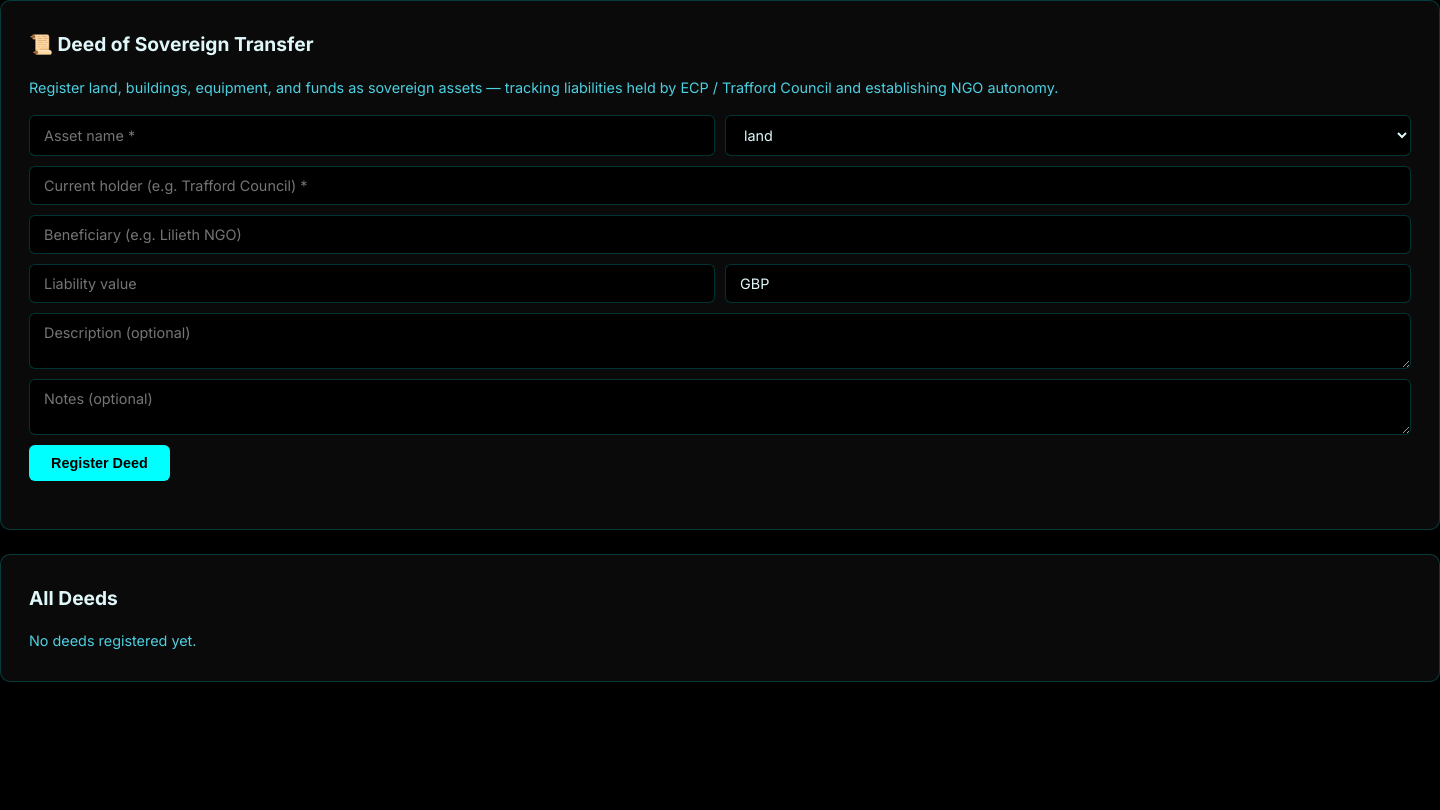
Test: Deeds › shows error message on API failure
This screenshot has width=1440, height=810.
Type "Test Plot" into the field with placeholder "Asset name *" at x=372, y=135, box [29,115,715,156]
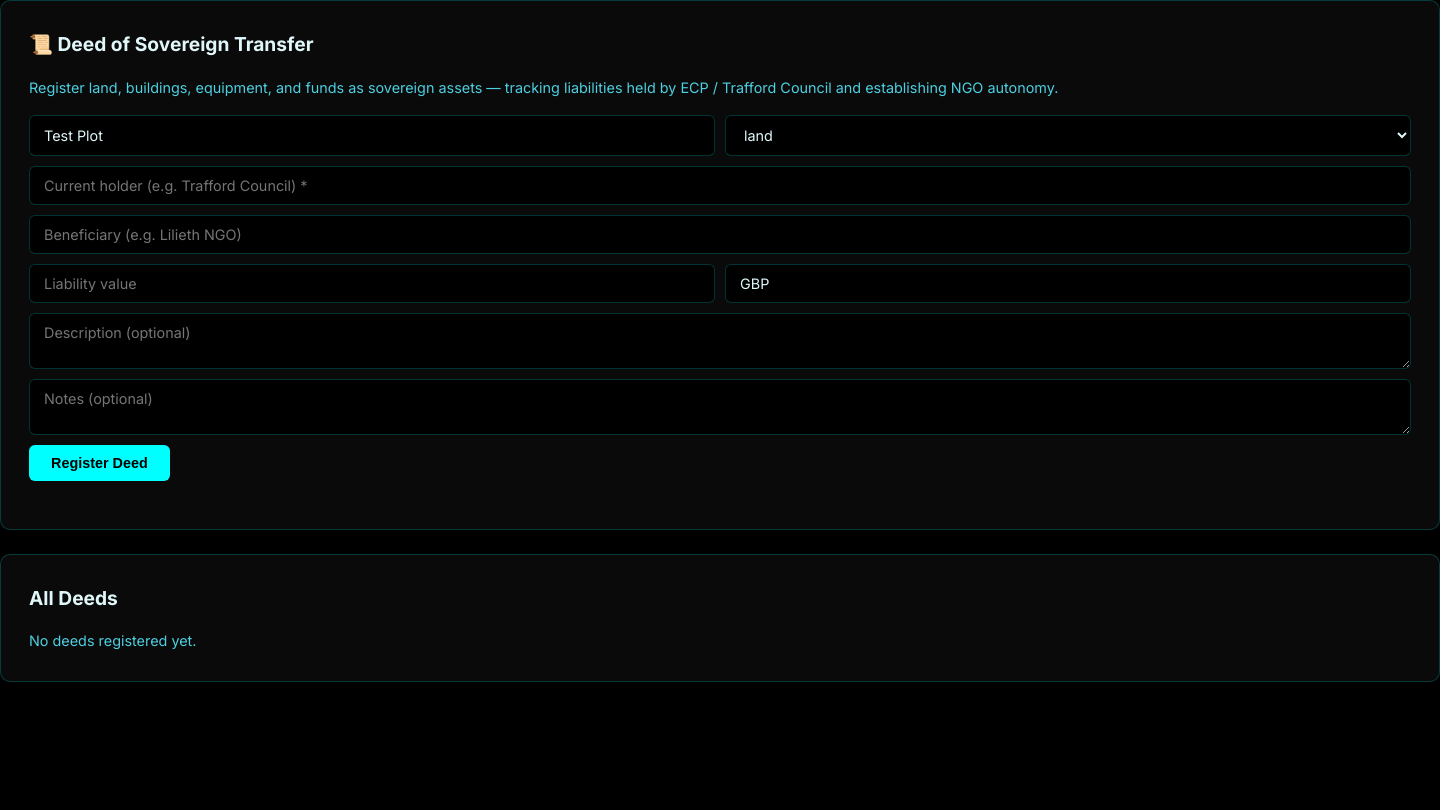
Type "Council" into the field with placeholder "Current holder (e.g. Trafford Council) *" at x=720, y=185, box [29,166,1411,205]
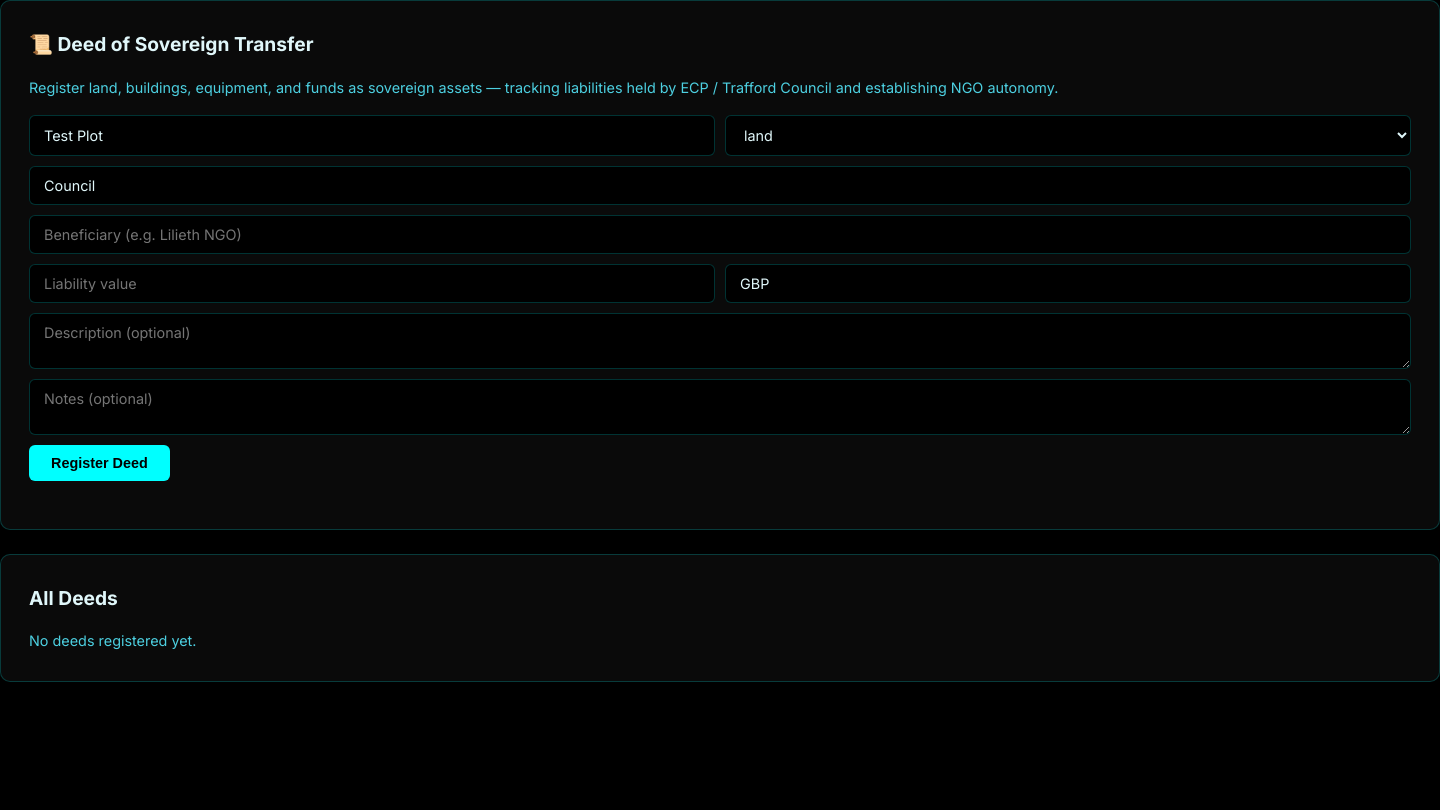
Click the button "Register Deed" at x=99, y=463, box [29,445,170,481]
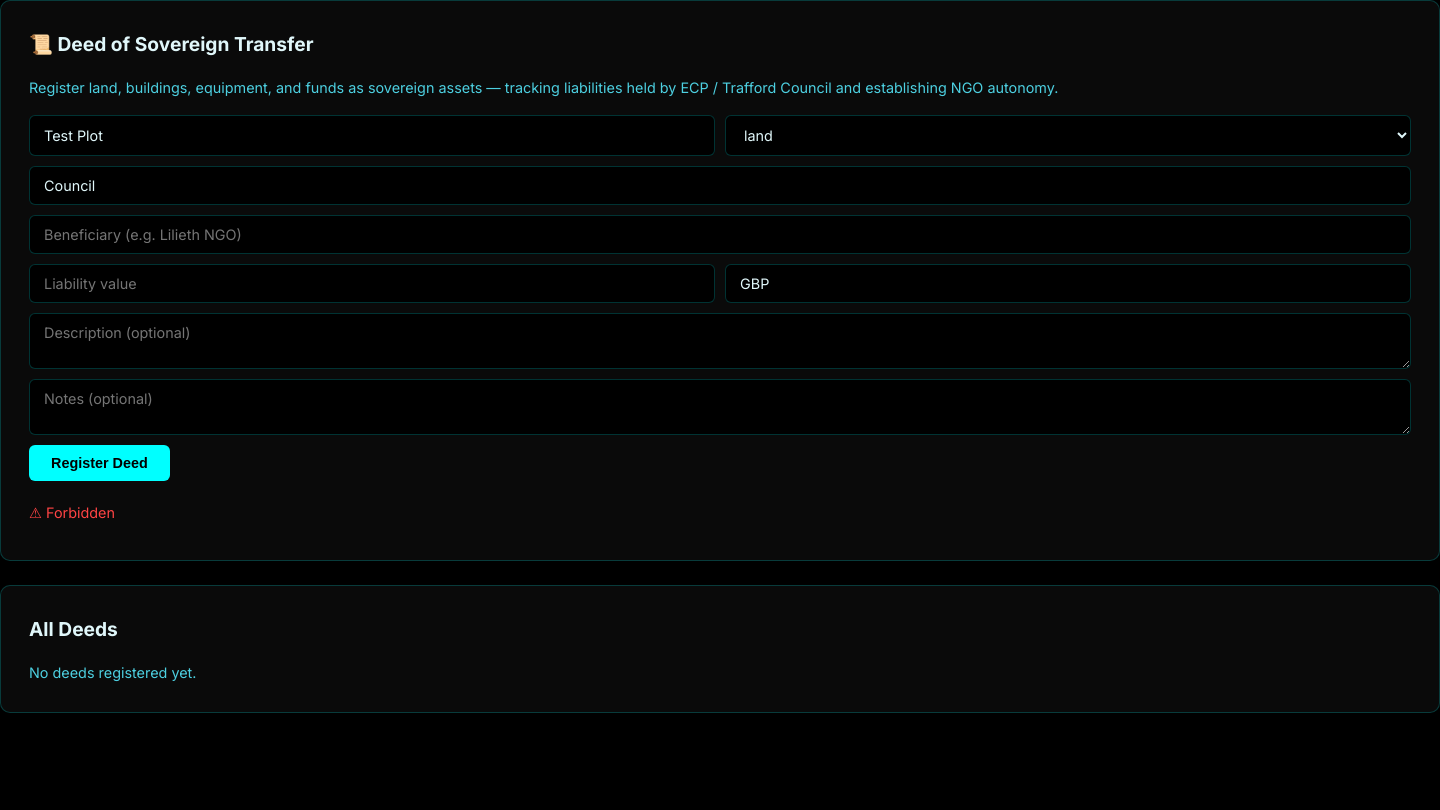
Check: the text "⚠ Forbidden" is shown, box [29,504,115,521]
